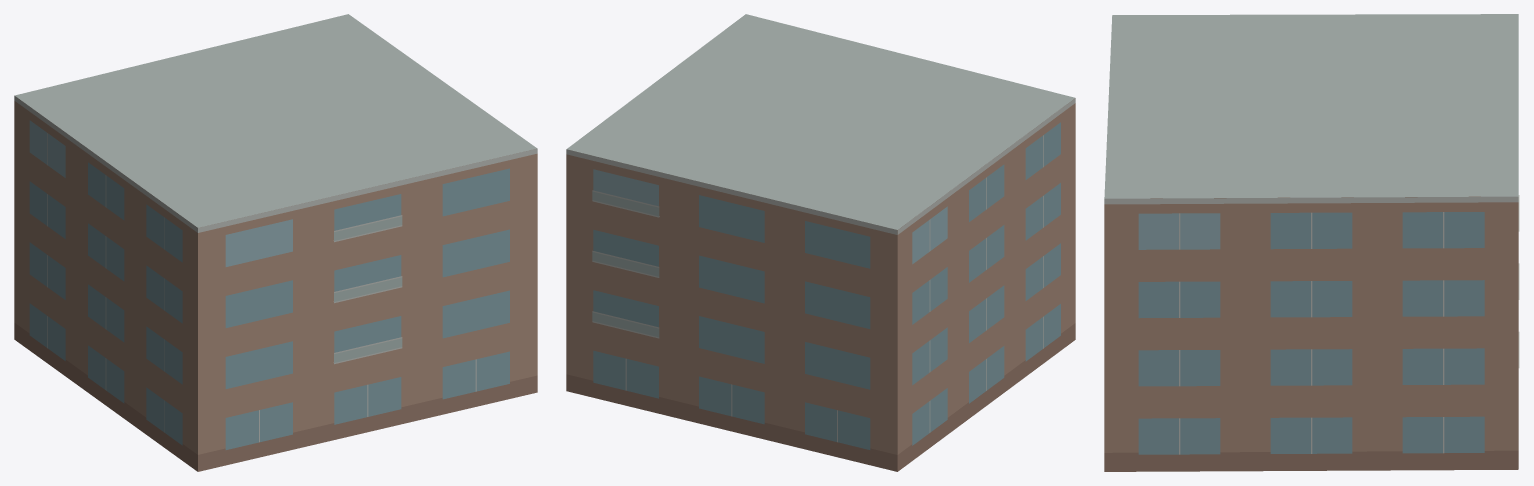
Rendered from survey-upis-33014419.glb.
The picture shows the model from 3 angles, left to right: view 1: azimuth 30°, elevation 25°; view 2: azimuth 150°, elevation 25°; view 3: azimuth 270°, elevation 25°; orthographic projection. The views are drawn at different scales.
Visible parts, largest first — view 1: survey-upis-33014419.tmp; view 2: survey-upis-33014419.tmp; view 3: survey-upis-33014419.tmp.
Part boxes in pixels (x1=…): survey-upis-33014419.tmp: x1=14, y1=14, x2=537, y2=471; survey-upis-33014419.tmp: x1=566, y1=14, x2=1075, y2=471; survey-upis-33014419.tmp: x1=1104, y1=14, x2=1519, y2=471.
Bounding box in the file's own units: 16.83 × 11.6 × 15.99.
